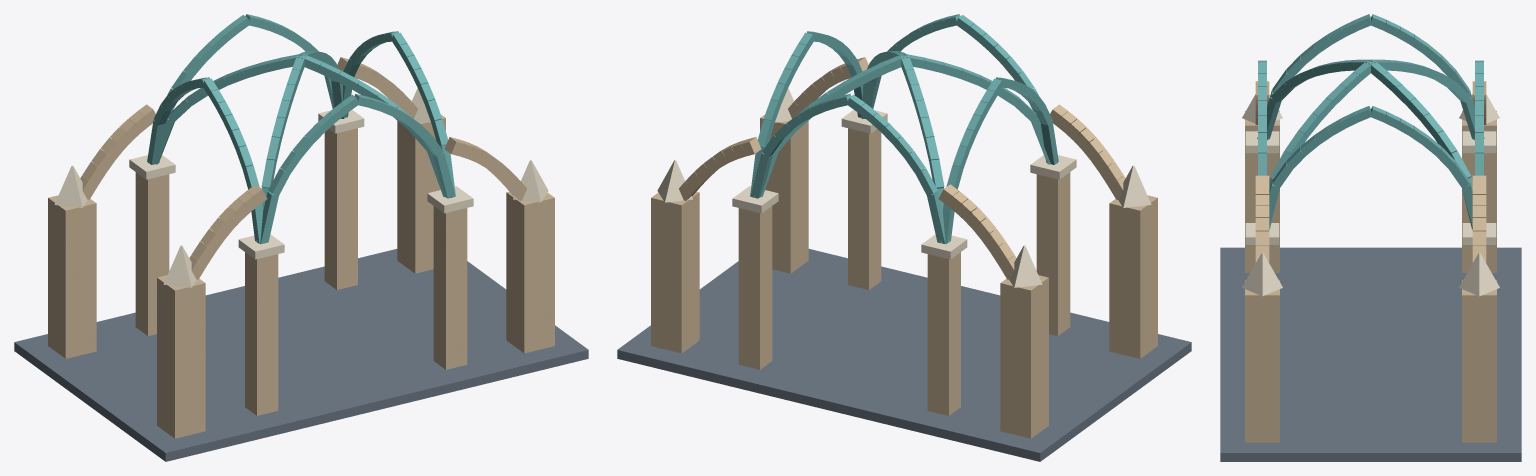
Rendered from sample.glb.
3 renders of one model, left to right at view 1: azimuth 30°, elevation 25°; view 2: azimuth 150°, elevation 25°; view 3: azimuth 270°, elevation 25°, orthographic.
Parts seen in each view (by area): view 1: DISPLAY_plinth, outer_buttress, outer_buttress.001, outer_buttress.002, pier.001, pier, pier.002, outer_buttress.003, pier.003, buttress_pinnacle, buttress_pinnacle.001, springer.001 (+4 smaller); view 2: DISPLAY_plinth, outer_buttress, outer_buttress.001, outer_buttress.003, pier.002, pier.003, pier.001, outer_buttress.002, pier, buttress_pinnacle.001, buttress_pinnacle, springer.002 (+4 smaller); view 3: DISPLAY_plinth, outer_buttress.002, outer_buttress.003, outer_buttress, outer_buttress.001, buttress_pinnacle.002, buttress_pinnacle.003, pier, pier.003, springer, springer.003, springer.001 (+3 smaller).
Part boxes in pixels (<box>): DISPLAY_plinth: <box>14,249,588,461</box>; outer_buttress: <box>157,275,205,438</box>; outer_buttress.001: <box>48,195,96,358</box>; outer_buttress.002: <box>506,191,554,353</box>; pier.001: <box>433,206,467,369</box>; pier: <box>245,252,278,415</box>; pier.002: <box>324,128,357,289</box>; outer_buttress.003: <box>397,115,445,273</box>; pier.003: <box>135,172,169,335</box>; buttress_pinnacle: <box>163,245,196,287</box>; buttress_pinnacle.001: <box>54,165,87,207</box>; springer.001: <box>427,186,473,213</box>; DISPLAY_plinth: <box>617,249,1191,461</box>; outer_buttress: <box>1109,195,1157,358</box>; outer_buttress.001: <box>1000,275,1048,438</box>; outer_buttress.003: <box>651,191,699,353</box>; pier.002: <box>738,206,772,369</box>; pier.003: <box>927,252,960,415</box>; pier.001: <box>848,128,881,289</box>; outer_buttress.002: <box>760,115,808,273</box>; pier: <box>1036,172,1070,335</box>; buttress_pinnacle.001: <box>1009,245,1042,287</box>; buttress_pinnacle: <box>1118,165,1151,207</box>; springer.002: <box>732,186,778,213</box>; DISPLAY_plinth: <box>1220,247,1521,461</box>; outer_buttress.002: <box>1245,280,1279,442</box>; outer_buttress.003: <box>1462,280,1496,442</box>; outer_buttress: <box>1245,110,1279,272</box>; outer_buttress.001: <box>1462,110,1496,272</box>; buttress_pinnacle.002: <box>1242,253,1282,296</box>; buttress_pinnacle.003: <box>1459,253,1499,296</box>; pier: <box>1250,153,1274,222</box>; pier.003: <box>1467,153,1491,222</box>; springer: <box>1245,131,1279,153</box>; springer.003: <box>1462,131,1496,153</box>; springer.001: <box>1245,223,1279,244</box>.
Bounding box in the file's own units: 8.96 × 6.06 × 5.56.
